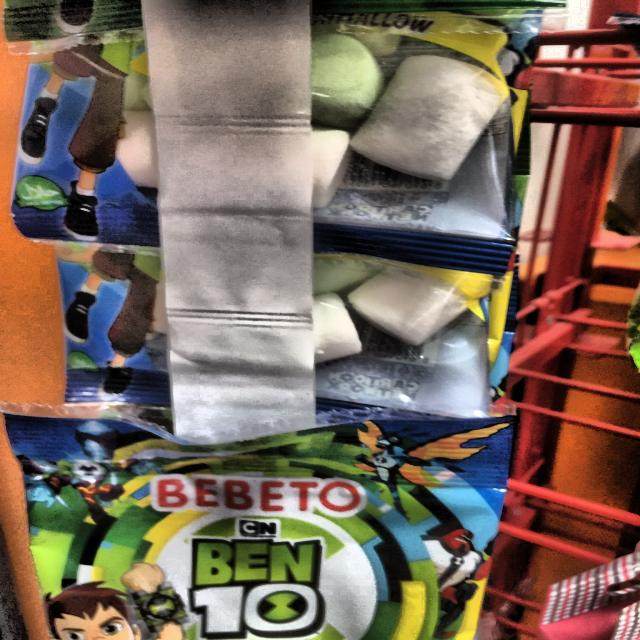Plastic: (31, 415, 514, 640)
